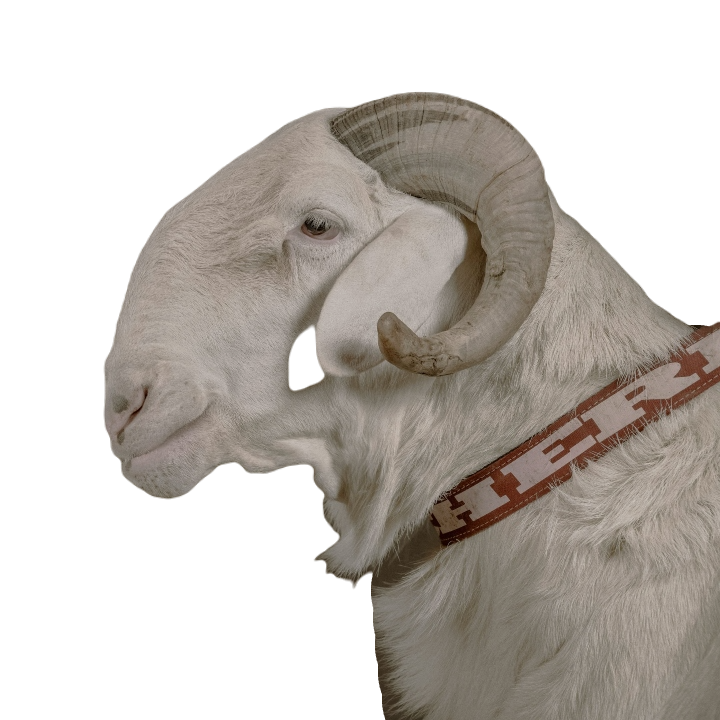Sheep: (98, 86, 719, 719)
